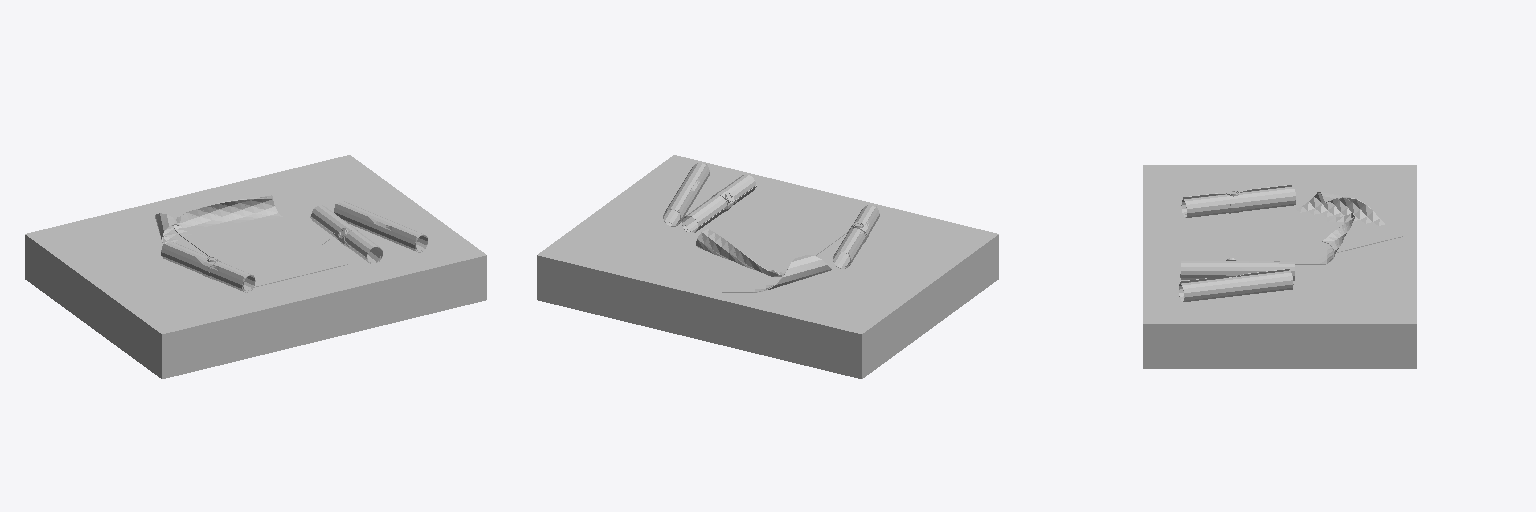
Rendered from uploads_files_4573422_MHD3D00020.obj.
3 renders of one model, left to right at view 1: azimuth 30°, elevation 25°; view 2: azimuth 150°, elevation 25°; view 3: azimuth 270°, elevation 25°, orthographic.
Visible parts, largest first — view 1: Box001, Plane02, Plane008, Plane06, Plane007, Plane03; view 2: Box001, Plane02, Plane03, Plane007, Plane008, Plane06; view 3: Box001, Plane02, Plane03, Plane008, Plane06, Plane007.
Part boxes in pixels (x1,y1,x2,y2): Box001: (25,155,486,378); Plane02: (173,195,347,287); Plane008: (334,201,427,252); Plane06: (161,241,255,292); Plane007: (310,205,382,263); Plane03: (155,203,329,256); Box001: (537,155,998,378); Plane02: (696,197,855,276); Plane03: (722,219,831,292); Plane007: (682,174,756,232); Plane008: (663,163,709,226); Plane06: (833,205,879,268); Box001: (1143,165,1416,368); Plane02: (1188,213,1354,264); Plane03: (1259,192,1402,252); Plane008: (1179,269,1293,301); Plane06: (1181,185,1295,217); Plane007: (1180,261,1294,280).
Bounding box in the file's own units: 489 × 96.6 × 358.